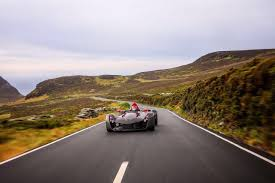car: (106, 103, 158, 134)
